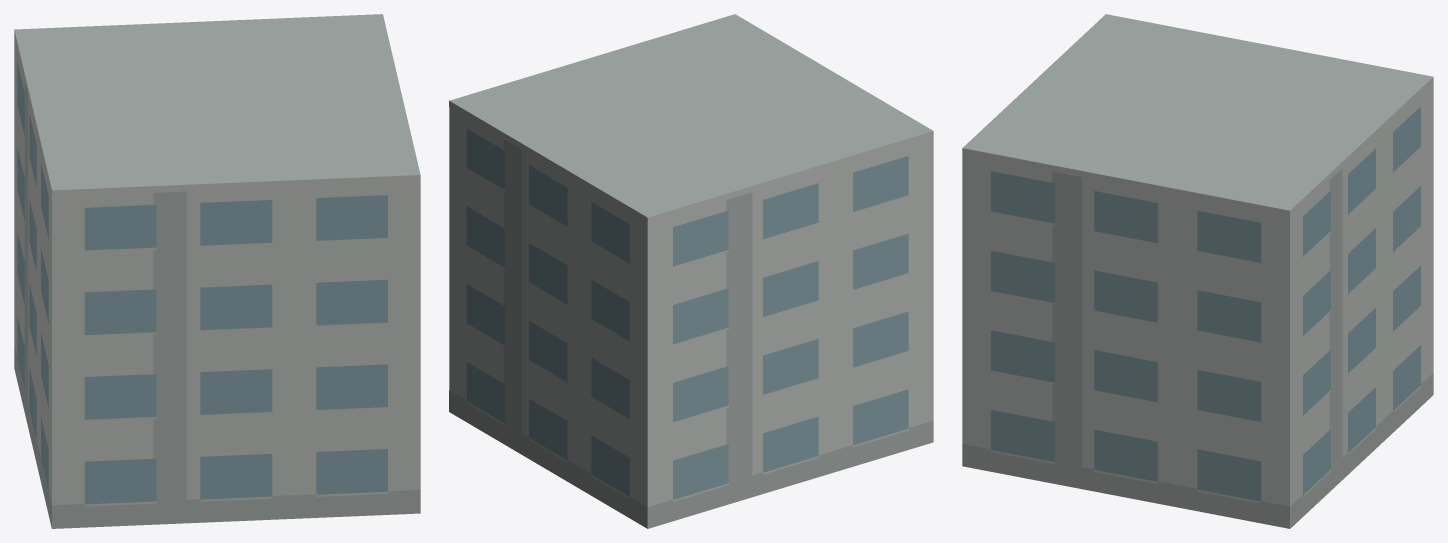
File: residential-5e8d0189-f4f9-4256-a826-da6c7811fc49.glb
3 views of the same model, side by side, from view 1: azimuth 30°, elevation 25°; view 2: azimuth 150°, elevation 25°; view 3: azimuth 270°, elevation 25° (orthographic). The views are drawn at different scales.
Parts seen in each view (by area): view 1: residential-5e8d0189-f4f9-4256-a826-da6c7811fc49.tmp; view 2: residential-5e8d0189-f4f9-4256-a826-da6c7811fc49.tmp; view 3: residential-5e8d0189-f4f9-4256-a826-da6c7811fc49.tmp.
Boxes of the visible parts, <box> form: residential-5e8d0189-f4f9-4256-a826-da6c7811fc49.tmp: <box>14,14,420,528</box>; residential-5e8d0189-f4f9-4256-a826-da6c7811fc49.tmp: <box>449,14,933,528</box>; residential-5e8d0189-f4f9-4256-a826-da6c7811fc49.tmp: <box>962,14,1433,528</box>.
Bounding box in the file's own units: 16.19 × 12.2 × 16.39.
